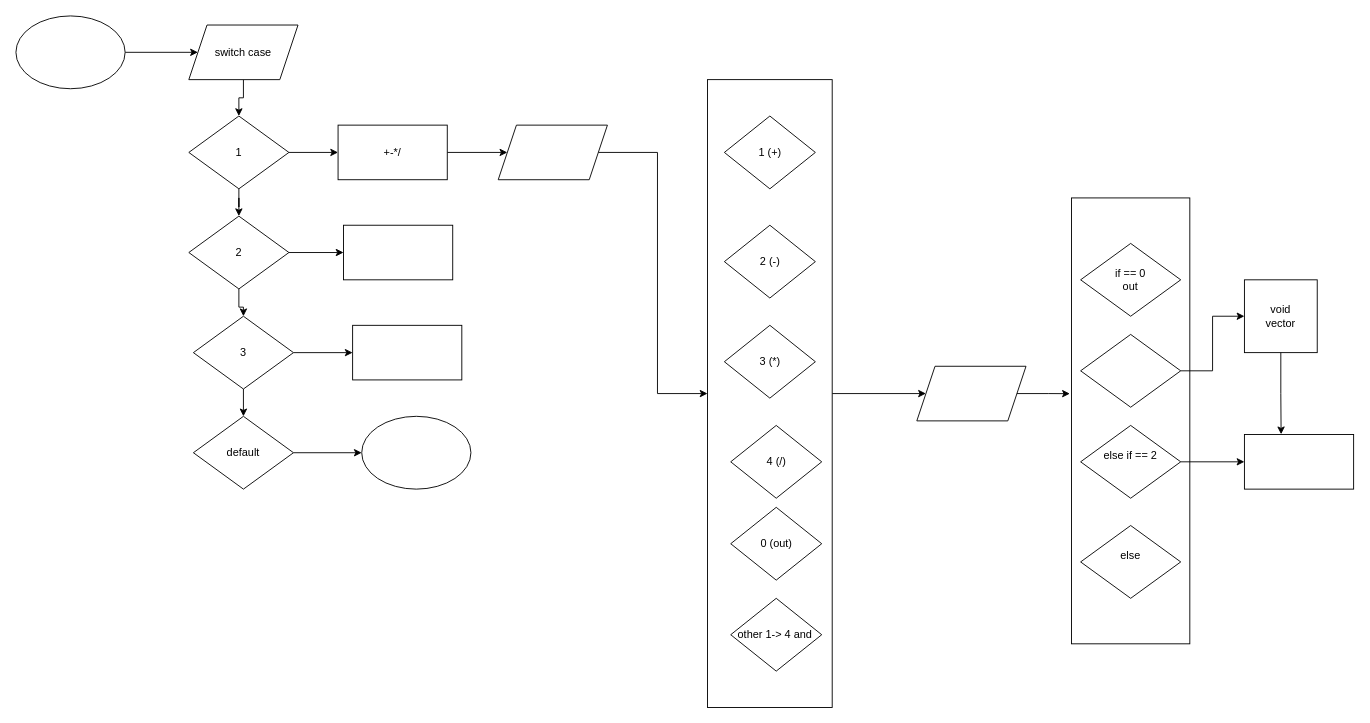
The diagram is 1370 pixels wide and 723 high, and some of its shapes have lost their labels. The shapes that lost their labels are listed below. From the top down, each one's centre as x and y in pixels, then its label:
At point 70,52: "start".
At point 552,152: "pick 1 - > 4 0 out".
At point 1130,370: "else if == 1".
At point 971,393: "1 or 2 1() 2(vector)".
At point 416,452: "endl".
At point 1299,461: "process +-*/".
